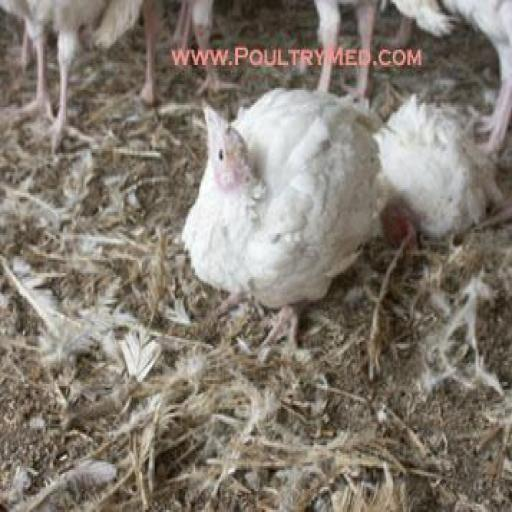disease: (225, 127, 249, 184)
